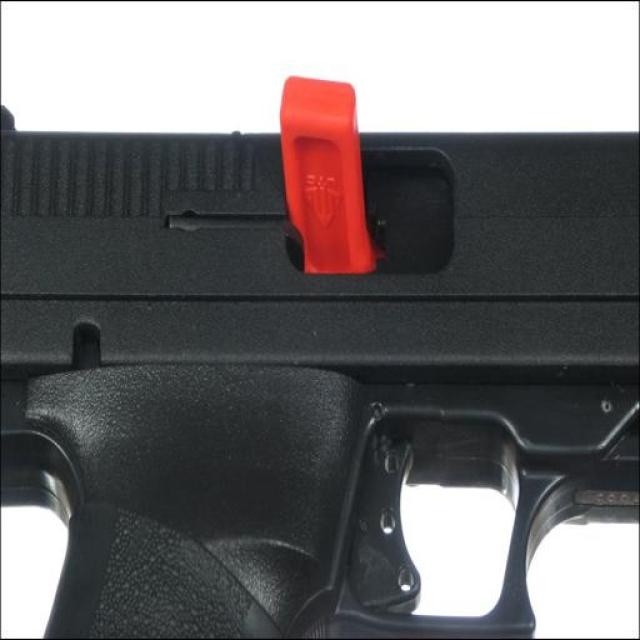pistol: (1, 107, 640, 640)
